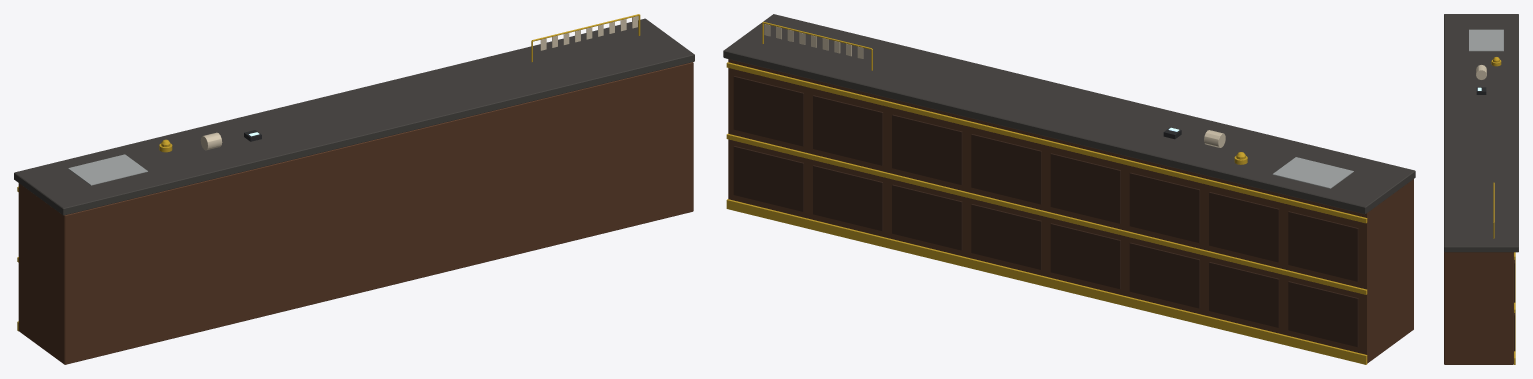
File: prop_ah_box_office_counter.glb
The picture shows the model from 3 angles, left to right: view 1: azimuth 30°, elevation 25°; view 2: azimuth 150°, elevation 25°; view 3: azimuth 270°, elevation 25°; orthographic projection. The views are drawn at different scales.
Parts seen in each view (by area): view 1: Body; view 2: Body; view 3: Body.
Boxes of the visible parts, box(x1,y1,x2,y2) form: Body: box(14, 14, 694, 364); Body: box(723, 14, 1415, 364); Body: box(1444, 14, 1518, 364).
Size of the model in its own units: 4.42 by 1.2 by 0.6.
